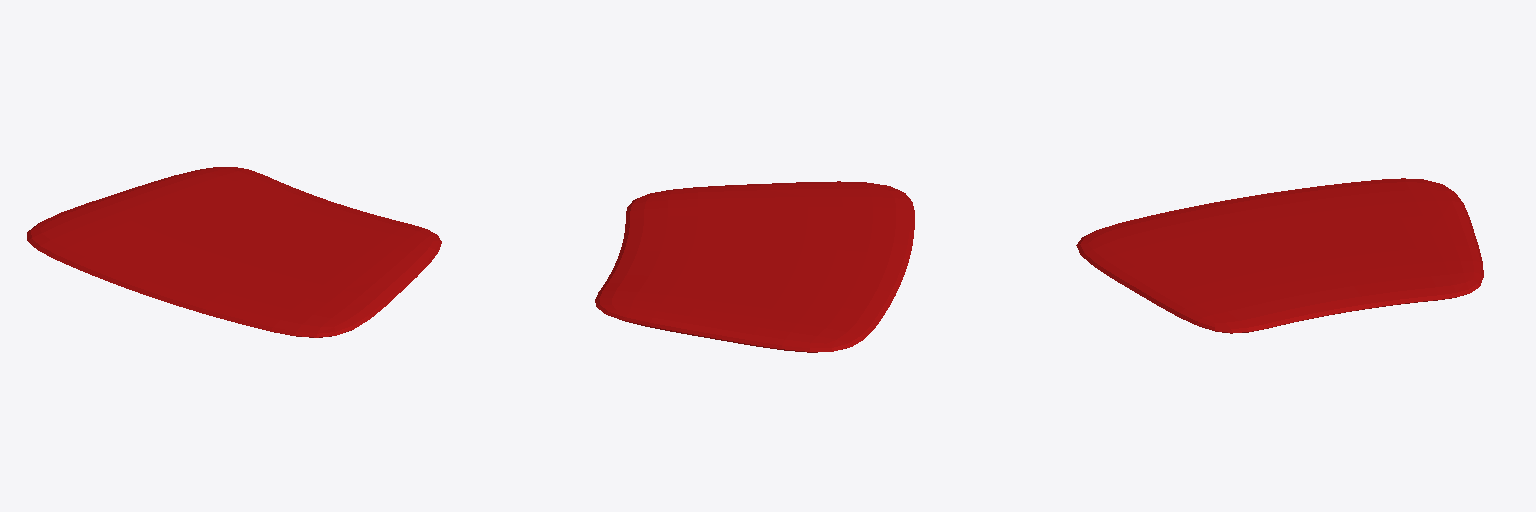
The model's file is terrain_panel_mid_w.obj.
3 renders of one model, left to right at view 1: azimuth 30°, elevation 25°; view 2: azimuth 150°, elevation 25°; view 3: azimuth 270°, elevation 25°, orthographic.
Parts seen in each view (by area): view 1: terrain_panel_mid_w; view 2: terrain_panel_mid_w; view 3: terrain_panel_mid_w.
Boxes of the visible parts, x1=… form: terrain_panel_mid_w: x1=27, y1=167, x2=441, y2=337; terrain_panel_mid_w: x1=595, y1=181, x2=914, y2=352; terrain_panel_mid_w: x1=1076, y1=178, x2=1483, y2=333.
Size of the model in its own units: 60.89 by 2.5 by 68.03.